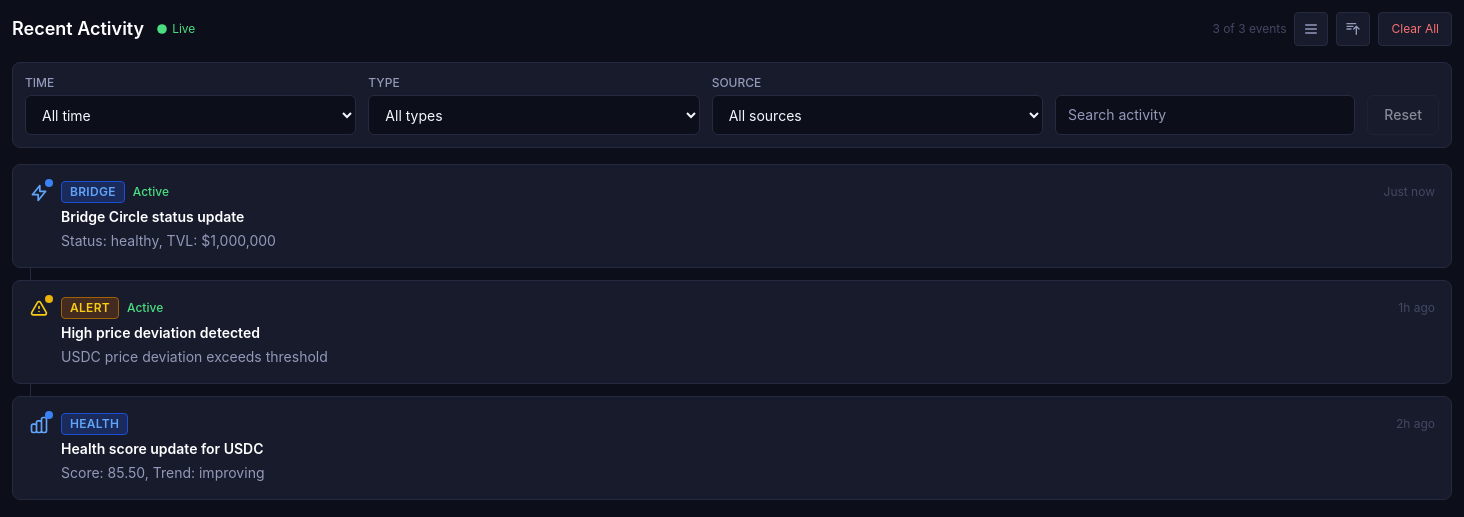
it: RecentActivityTimeline › toggles display mode
Click the button named "Switch to expanded mode". click: {"x": 1312, "y": 29}
box: top-left (1294, 12), bottom-right (1328, 46)
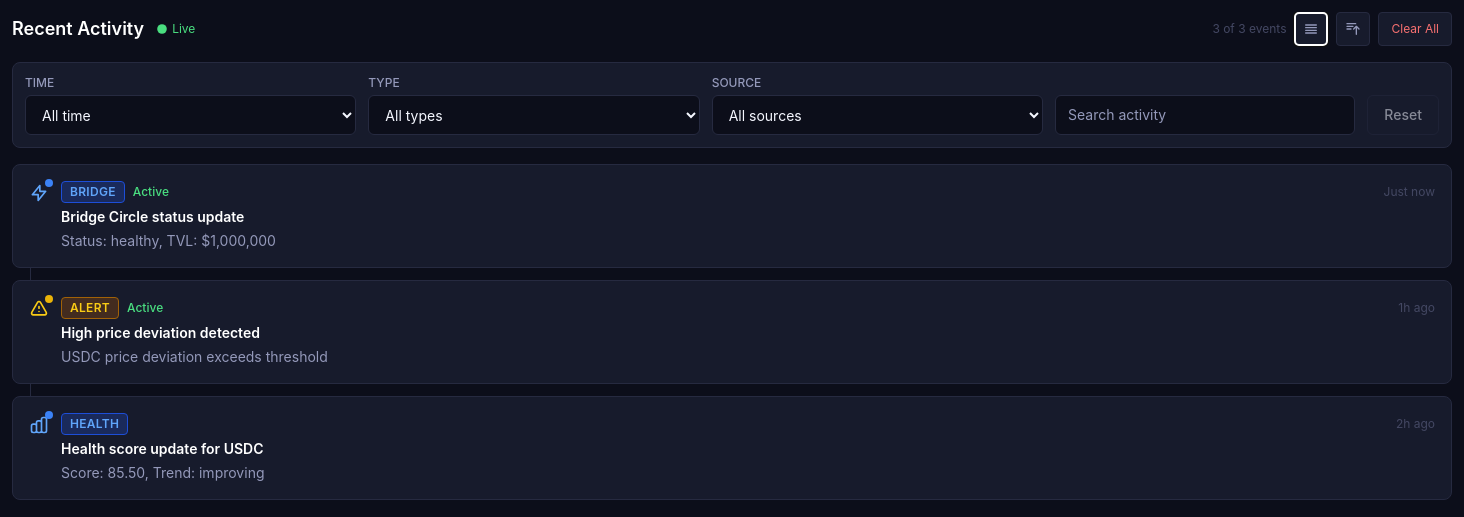
Expected: the button named "Switch to compact mode" is shown, top-left (1294, 12), bottom-right (1328, 46)
